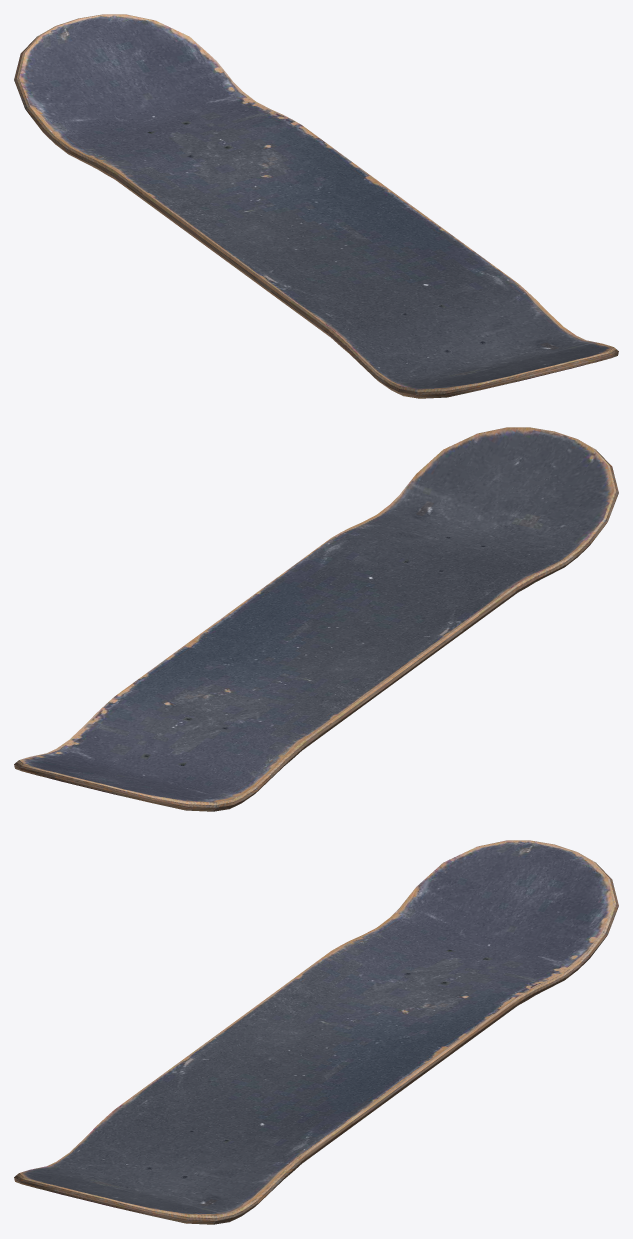
Rendered from board.obj.
3 renders of one model, top to bottom at view 1: azimuth 30°, elevation 25°; view 2: azimuth 150°, elevation 25°; view 3: azimuth 330°, elevation 25°, orthographic.
Parts seen in each view (by area): view 1: Deck_0; view 2: Deck_0; view 3: Deck_0.
Part boxes in pixels (x1,y1,x2,y2): Deck_0: [14, 14, 618, 398]; Deck_0: [14, 427, 618, 811]; Deck_0: [14, 840, 618, 1224].
Size of the model in its own units: 1.95 by 0.5372 by 8.41.
